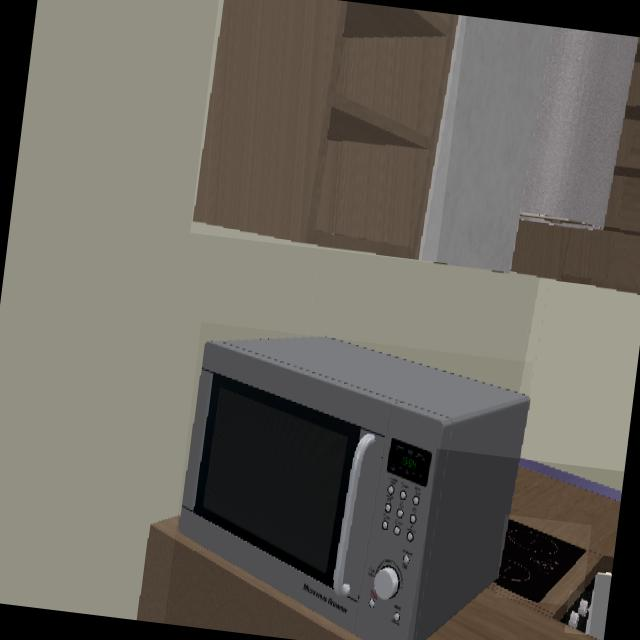countertop: (427, 459, 621, 640)
microwave: (176, 336, 528, 640)
oven: (565, 593, 592, 634)
shelf: (192, 0, 457, 260)
stove: (496, 516, 587, 602)
